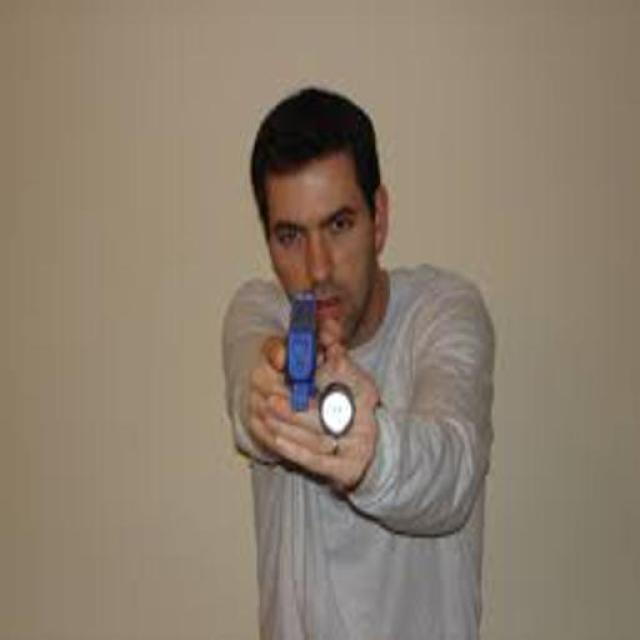pistol: (279, 286, 325, 411)
